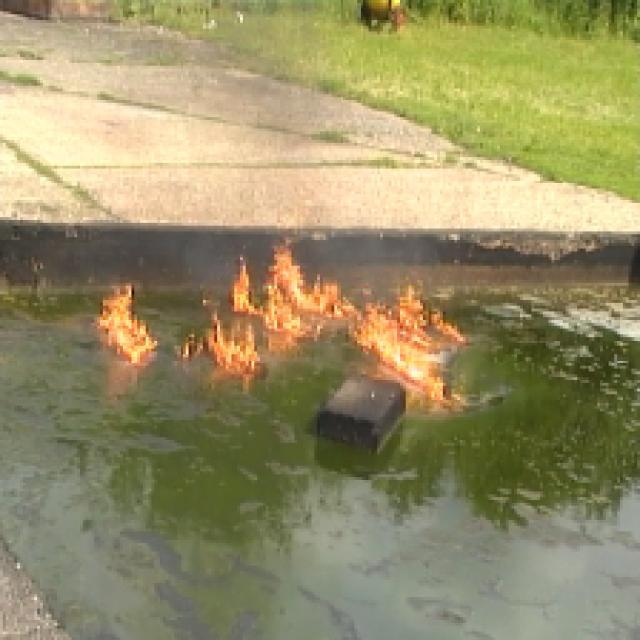Fire: (194, 254, 468, 398), (99, 290, 150, 356)
